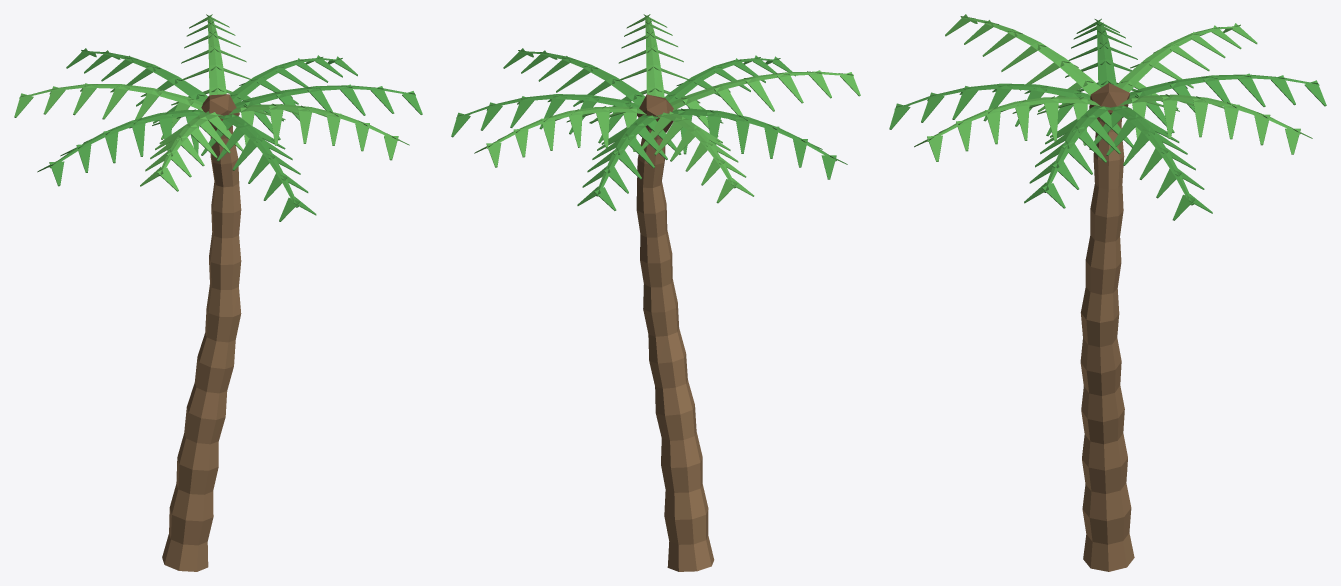
Rendered from TREE_06.obj.
3 views of the same model, side by side, from view 1: azimuth 30°, elevation 25°; view 2: azimuth 150°, elevation 25°; view 3: azimuth 270°, elevation 25° (orthographic). The views are drawn at different scales.
Parts seen in each view (by area): view 1: fronds, trunk, crown; view 2: fronds, trunk, crown; view 3: fronds, trunk, crown.
Part boxes in pixels (x1,y1,x2,y2): fronds: (14,14,422,221); trunk: (162,126,241,571); crown: (198,94,239,130); fronds: (451,14,860,210); trunk: (636,127,714,571); crown: (637,94,673,132); fronds: (889,14,1326,220); trunk: (1080,119,1134,571); crown: (1089,83,1129,123).
Size of the model in its own units: 9.27 by 11.87 by 9.33.
